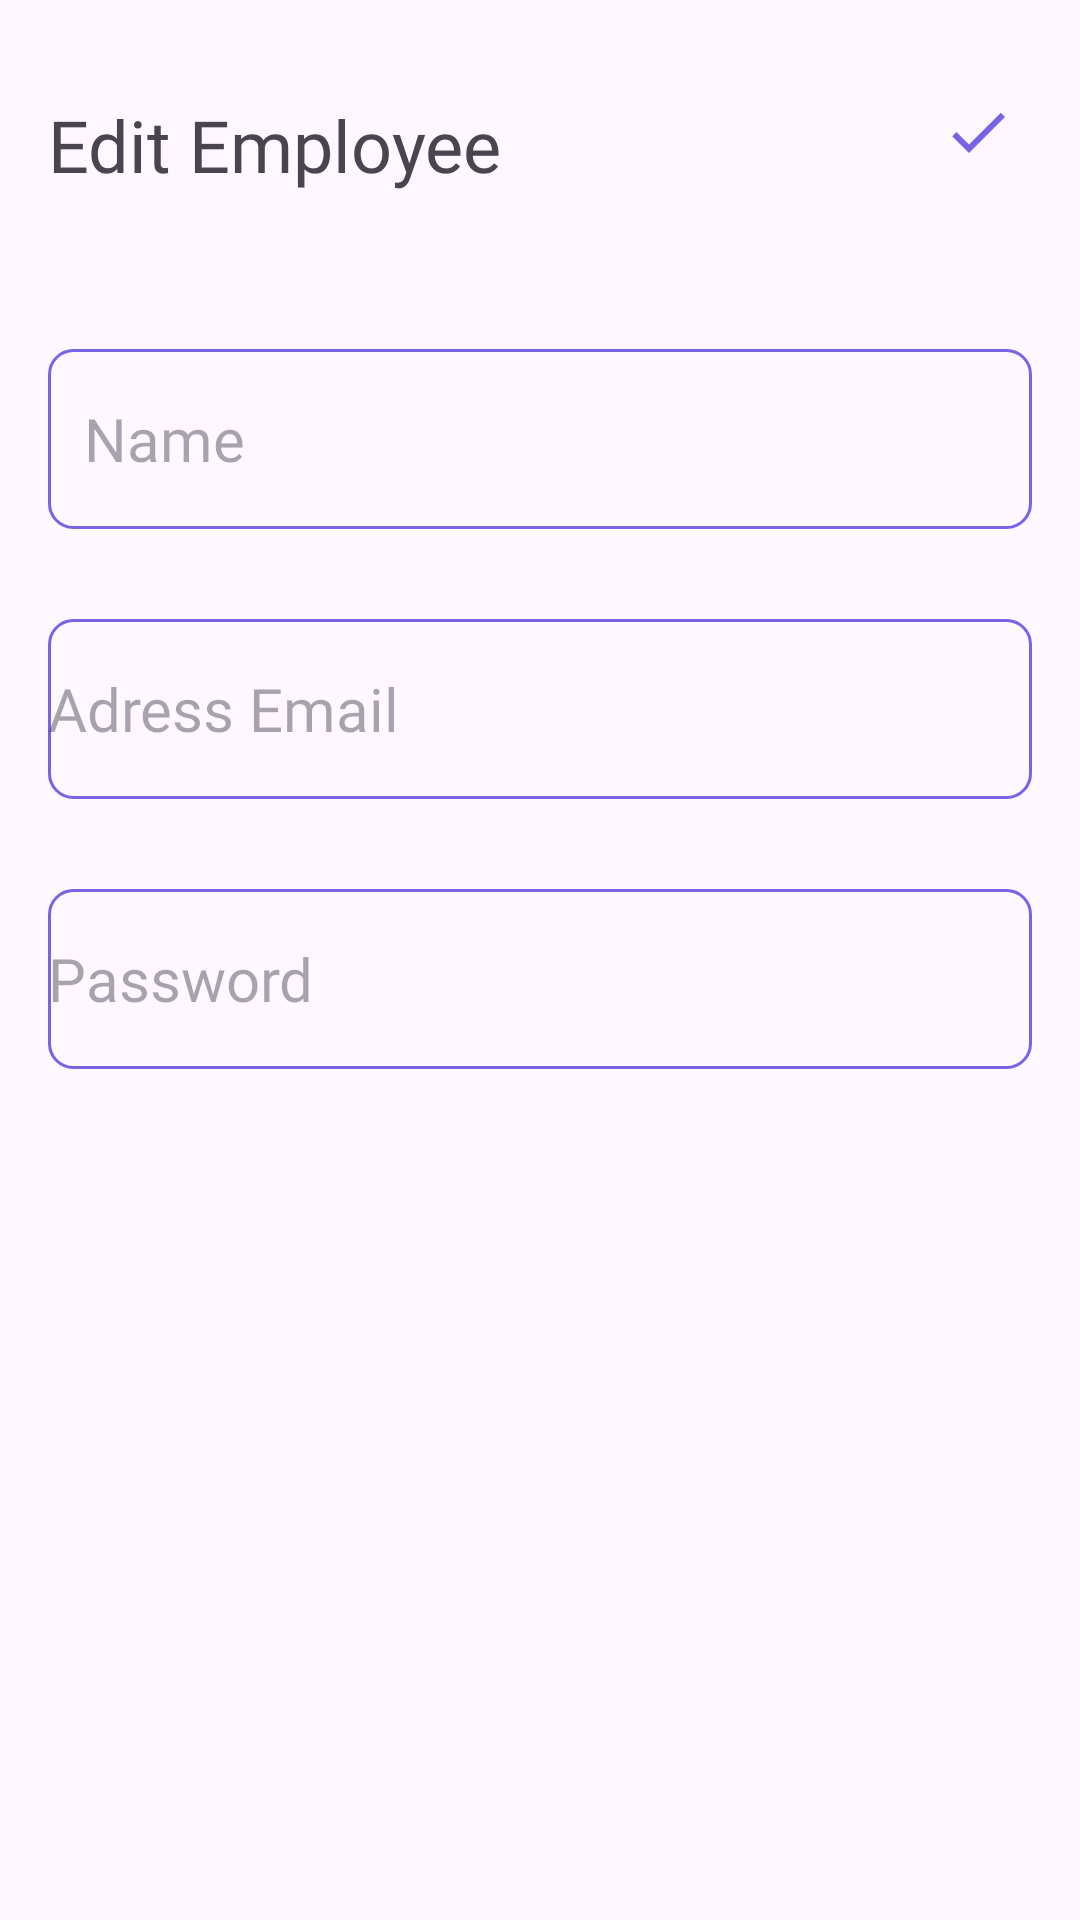

Icon bounding boxes for this 1080*1920 phone screenshot, format box(x1, y1, x2, y2):
done: box(952, 113, 1005, 153)
